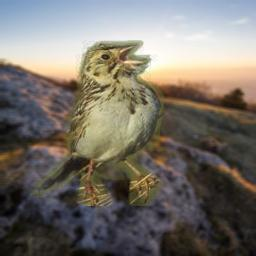Sparrow: (29, 40, 164, 206)
